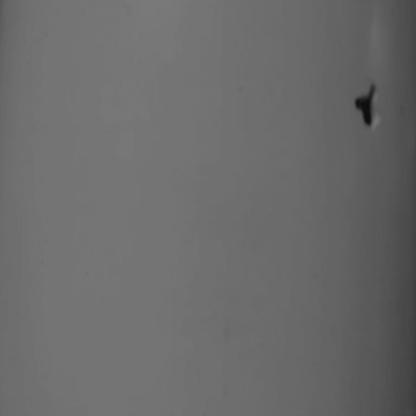kongdong: (349, 71, 385, 144)
